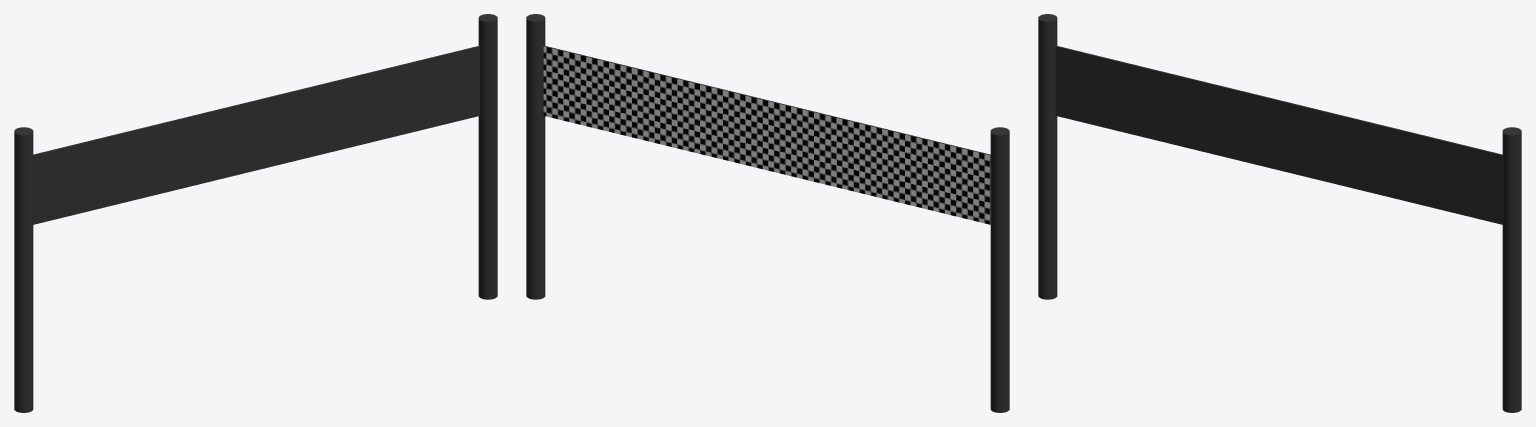
The model's file is Finish_Line_Model.fbx.
3 views of the same model, side by side, from view 1: azimuth 30°, elevation 25°; view 2: azimuth 150°, elevation 25°; view 3: azimuth 330°, elevation 25° (orthographic).
Visible parts, largest first — view 1: pCube3; view 2: pCube3; view 3: pCube3.
Part boxes in pixels (x1,y1,x2,y2): pCube3: (14, 14, 497, 412); pCube3: (526, 14, 1009, 412); pCube3: (1038, 14, 1521, 412).
Size of the model in its own units: 290 by 160 by 10.
